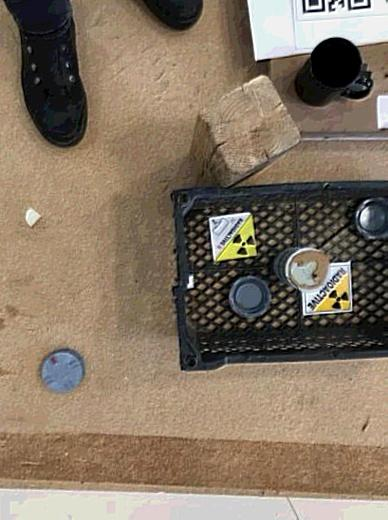radioactive: (296, 261, 352, 313), (206, 213, 258, 261)
